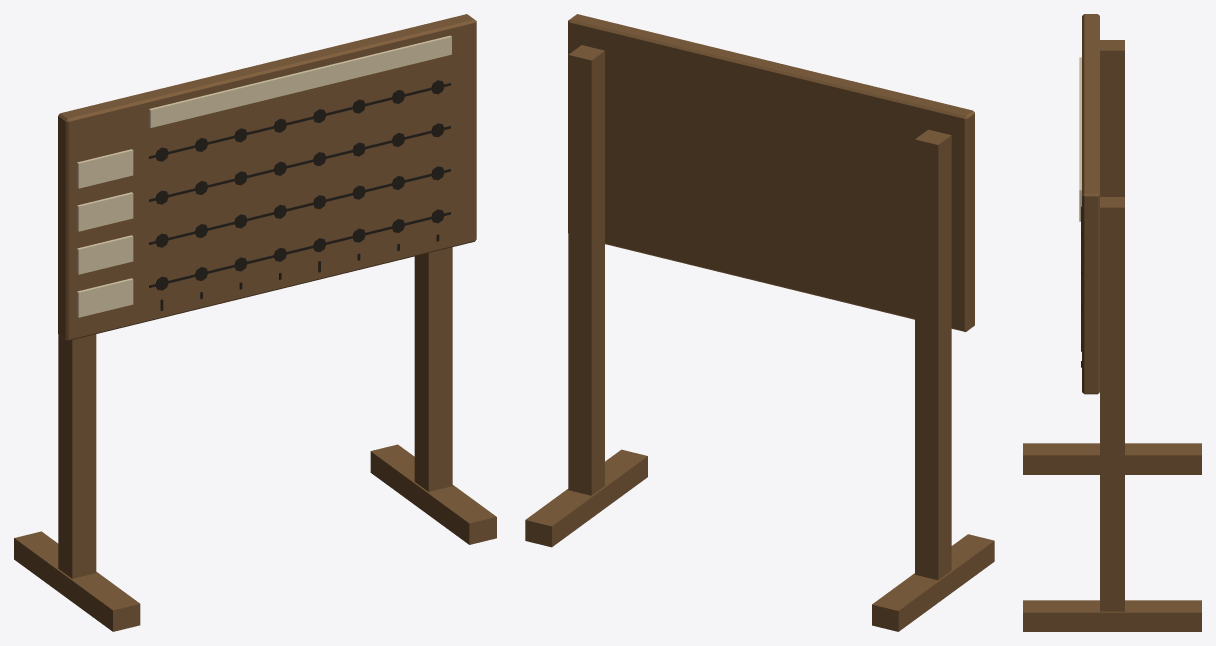
Rendered from Prop_YTM_VoiceStaff.glb.
The picture shows the model from 3 angles, left to right: view 1: azimuth 30°, elevation 25°; view 2: azimuth 150°, elevation 25°; view 3: azimuth 270°, elevation 25°; orthographic projection. The views are drawn at different scales.
Parts seen in each view (by area): view 1: Prop_YTM_VoiceStaff; view 2: Prop_YTM_VoiceStaff; view 3: Prop_YTM_VoiceStaff.
Part boxes in pixels (x1,y1,x2,y2): Prop_YTM_VoiceStaff: (14, 14, 496, 631); Prop_YTM_VoiceStaff: (525, 14, 994, 631); Prop_YTM_VoiceStaff: (1023, 14, 1201, 631).
Size of what is drawn, in the model's own units: 1.2 by 1.37 by 0.5.
